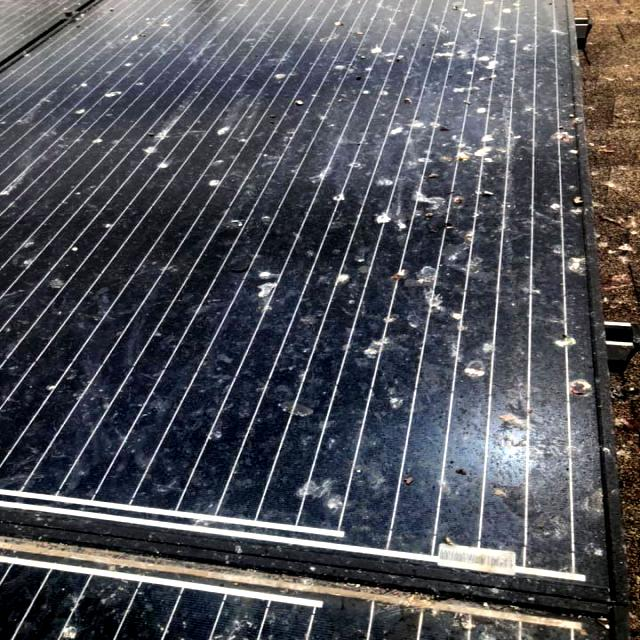bird: (228, 378, 410, 548), (458, 362, 590, 580), (100, 92, 302, 196), (416, 111, 557, 236), (390, 191, 476, 351), (501, 234, 587, 356), (201, 229, 305, 316), (404, 36, 538, 100), (315, 114, 413, 198), (329, 260, 406, 365), (297, 31, 382, 93)
